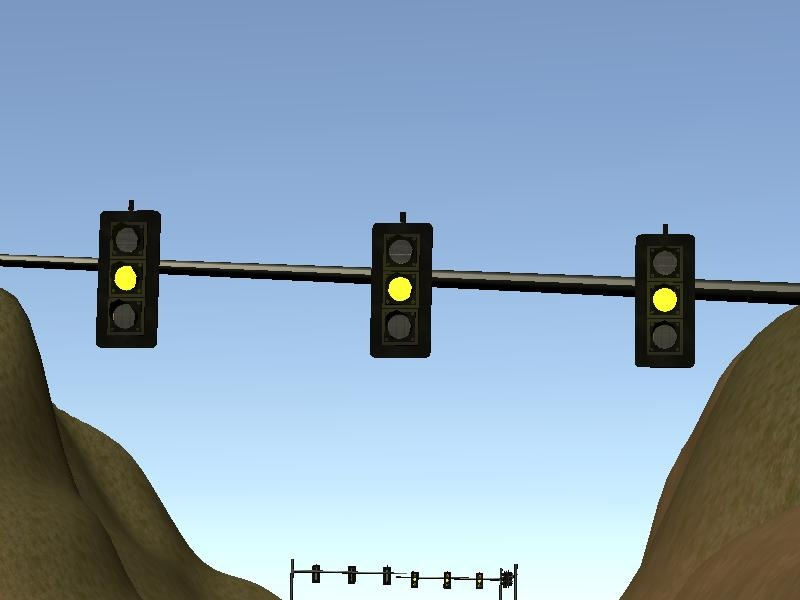YELLOW: (366, 210, 435, 358), (93, 199, 162, 347), (633, 222, 697, 368)
